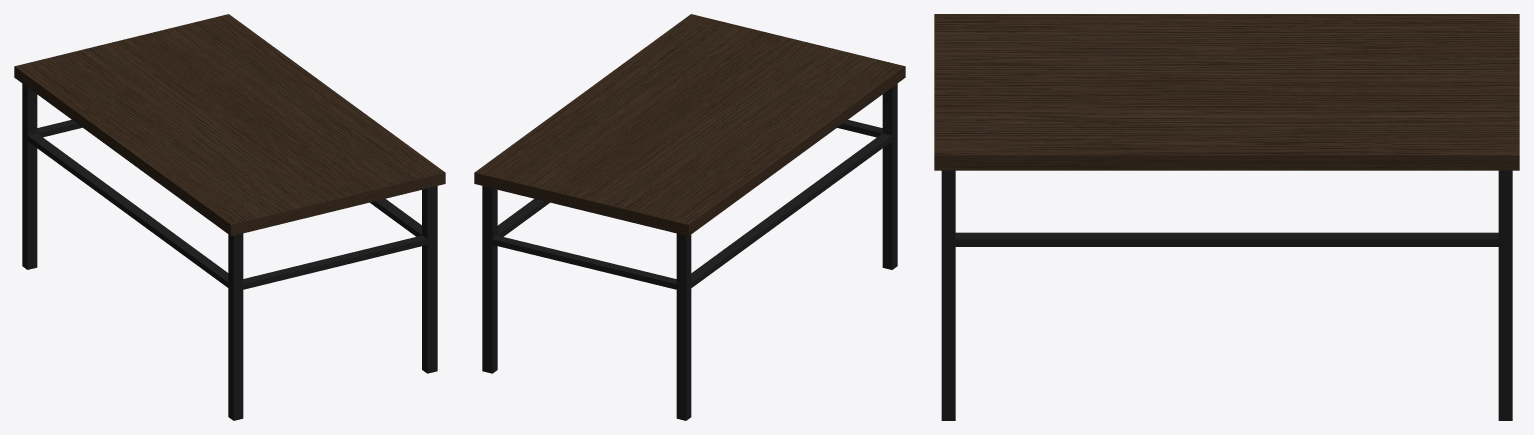
Rendered from Workstation.fbx.
3 renders of one model, left to right at view 1: azimuth 30°, elevation 25°; view 2: azimuth 150°, elevation 25°; view 3: azimuth 270°, elevation 25°, orthographic. The views are drawn at different scales.
Parts seen in each view (by area): view 1: Cube; view 2: Cube; view 3: Cube.
Boxes of the visible parts, x1=… form: Cube: x1=14, y1=14, x2=445, y2=420; Cube: x1=474, y1=14, x2=905, y2=420; Cube: x1=934, y1=14, x2=1519, y2=420.
Size of the model in its own units: 200 by 178 by 350.
